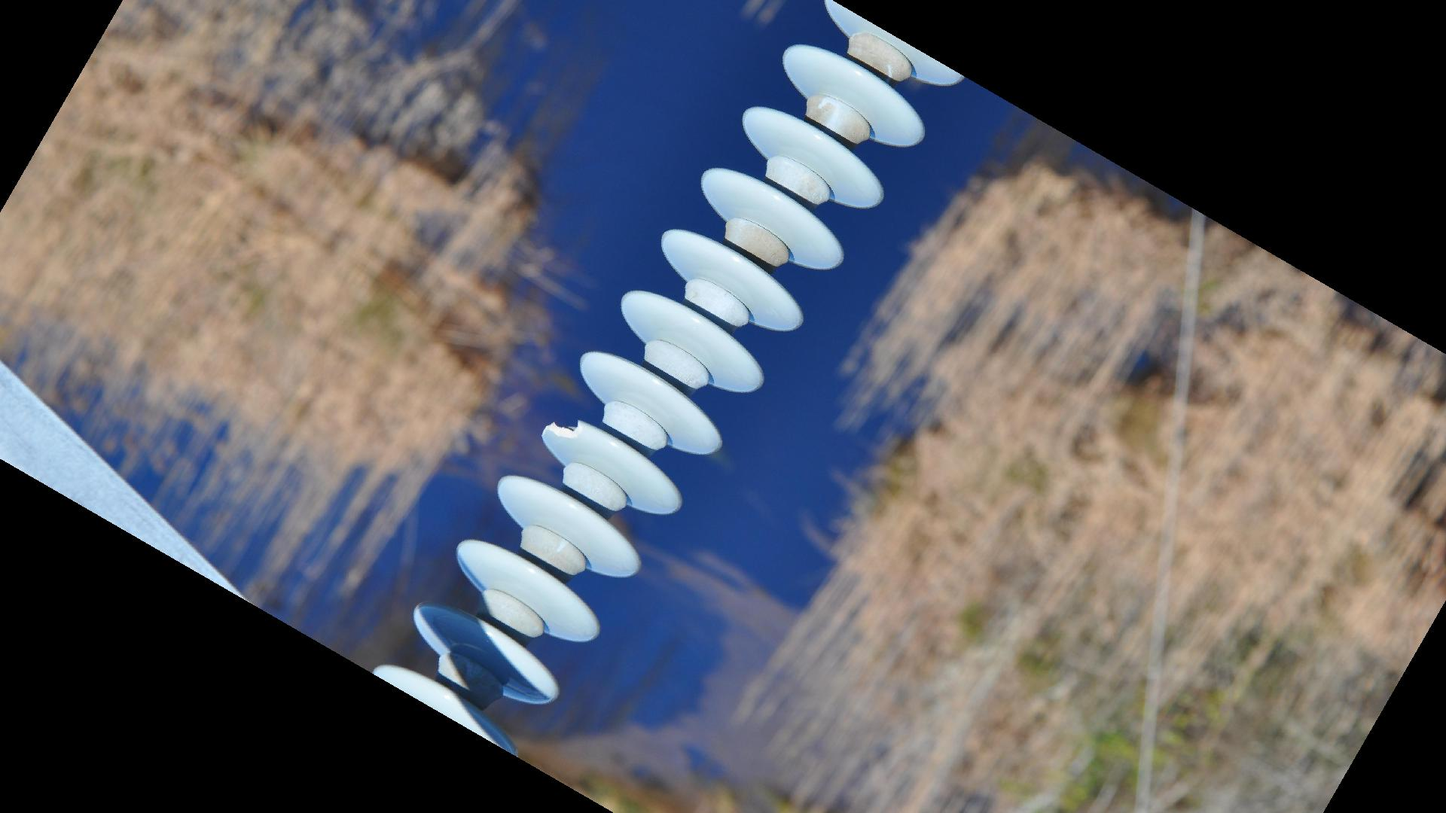insulator: (365, 1, 976, 765)
insulator_breakage: (536, 415, 590, 445)
